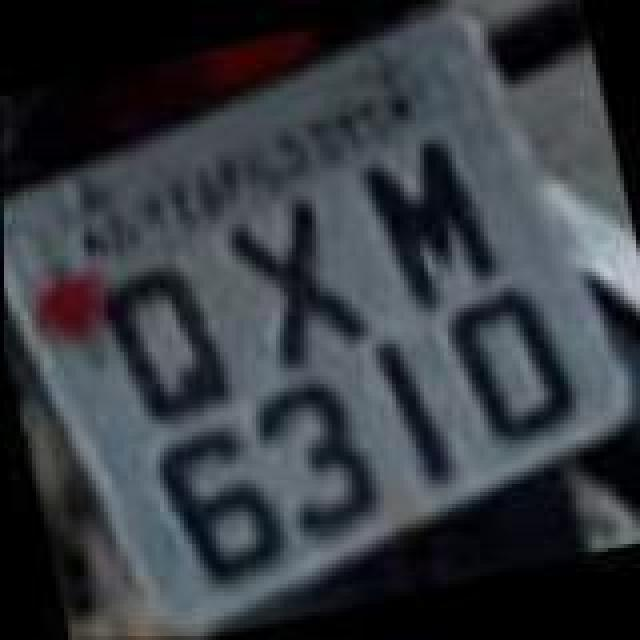1: (364, 334, 468, 494)
3: (244, 366, 384, 542)
6: (150, 410, 294, 594)
M: (352, 128, 508, 324)
O: (444, 276, 588, 456)
Q: (92, 254, 236, 434)
X: (212, 184, 380, 388)
